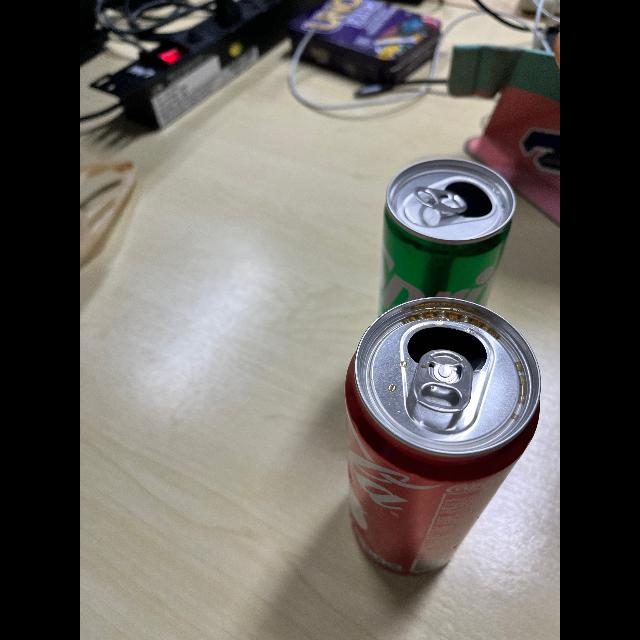can: (333, 288, 545, 590), (374, 154, 512, 326)
